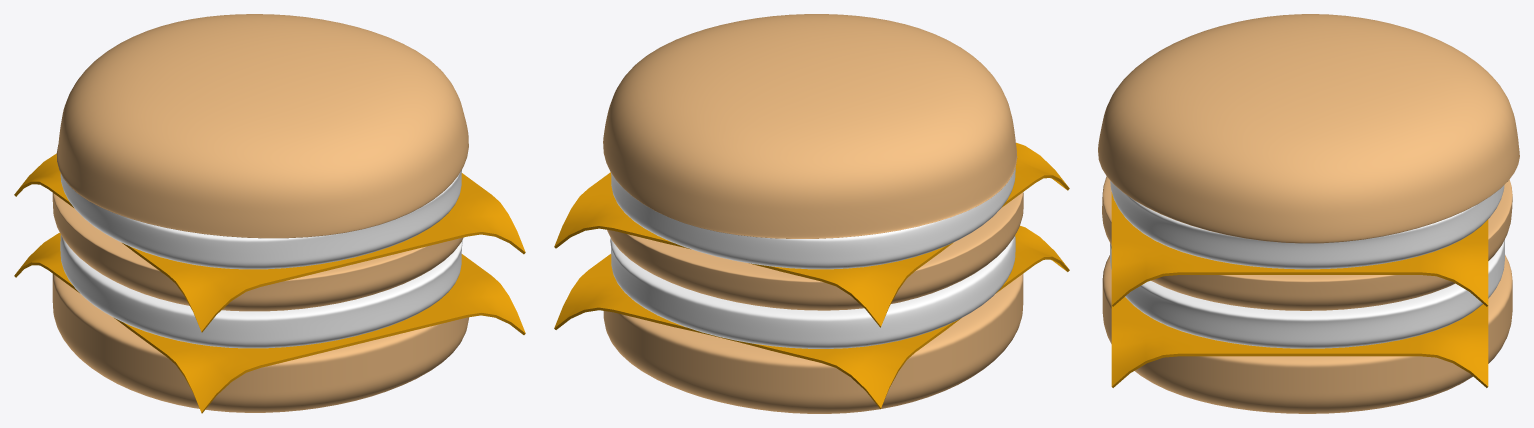
The model's file is Hamburger.glb.
3 views of the same model, side by side, from view 1: azimuth 30°, elevation 25°; view 2: azimuth 150°, elevation 25°; view 3: azimuth 270°, elevation 25° (orthographic).
Parts seen in each view (by area): view 1: Top Bun, Bottom bun, Bottom Meat, Middle bun, Top Meat, Bottom Cheese, Top Cheese; view 2: Top Bun, Bottom bun, Bottom Meat, Middle bun, Top Meat, Bottom Cheese, Top Cheese; view 3: Top Bun, Bottom bun, Bottom Meat, Top Meat, Bottom Cheese, Middle bun, Top Cheese.
Boxes of the visible parts, x1=… form: Top Bun: x1=56, y1=14, x2=468, y2=238; Bottom bun: x1=52, y1=274, x2=468, y2=412; Bottom Meat: x1=60, y1=235, x2=462, y2=348; Middle bun: x1=52, y1=193, x2=463, y2=311; Top Meat: x1=60, y1=170, x2=461, y2=269; Bottom Cheese: x1=14, y1=233, x2=525, y2=413; Top Cheese: x1=14, y1=153, x2=525, y2=332; Top Bun: x1=603, y1=14, x2=1017, y2=238; Bottom bun: x1=603, y1=274, x2=1023, y2=413; Bottom Meat: x1=610, y1=235, x2=1015, y2=348; Middle bun: x1=607, y1=192, x2=1023, y2=310; Top Meat: x1=611, y1=167, x2=1015, y2=269; Bottom Cheese: x1=554, y1=225, x2=1069, y2=408; Top Cheese: x1=554, y1=142, x2=1069, y2=327; Top Bun: x1=1098, y1=14, x2=1519, y2=243; Bottom bun: x1=1102, y1=255, x2=1512, y2=413; Bottom Meat: x1=1110, y1=239, x2=1504, y2=348; Top Meat: x1=1110, y1=181, x2=1504, y2=269; Bottom Cheese: x1=1111, y1=297, x2=1488, y2=387; Middle bun: x1=1102, y1=176, x2=1512, y2=310; Top Cheese: x1=1111, y1=192, x2=1488, y2=306.
Size of the model in its own units: 11.45 by 8.65 by 11.44.
